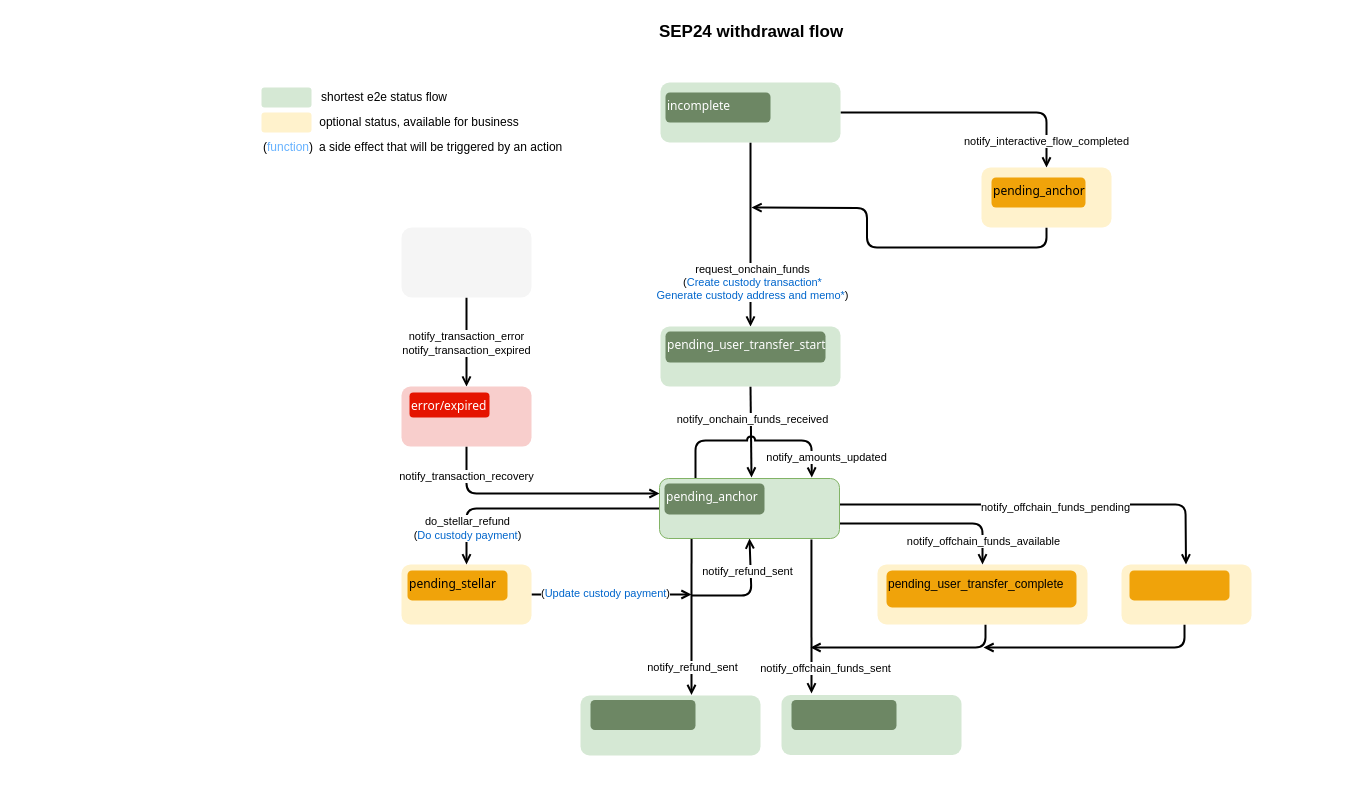
Some shapes in this 1371 by 804 pixel diagram are drawn without their labels. Each missing label, with the box of its shape:
Any status other than completed or refunded: (401, 227, 531, 297)
completed: (791, 700, 896, 730)
pending_external: (1129, 570, 1229, 600)
refunded: (590, 700, 695, 730)
